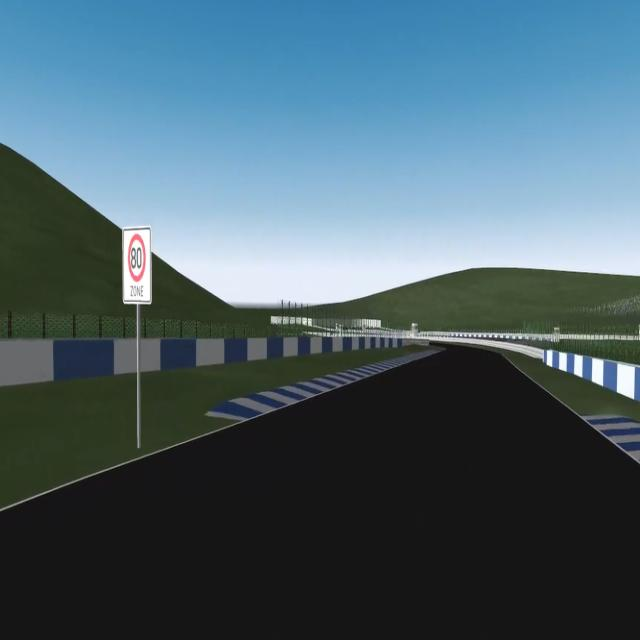Speed Limit -80-: (131, 247, 142, 270)
